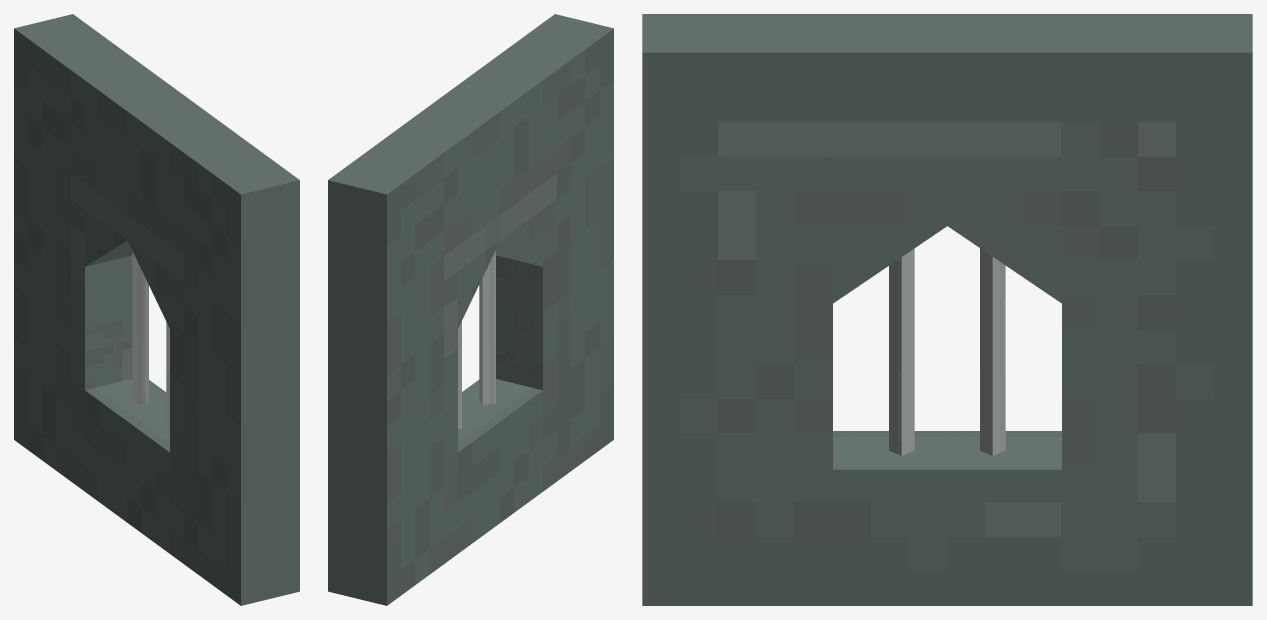
File: Base_Wall2.fbx
The picture shows the model from 3 angles, left to right: view 1: azimuth 30°, elevation 25°; view 2: azimuth 150°, elevation 25°; view 3: azimuth 270°, elevation 25°; orthographic projection. The views are drawn at different scales.
Parts seen in each view (by area): view 1: Wall, Bar2, Bar1; view 2: Wall, Bar1, Bar2; view 3: Wall, Bar1, Bar2.
Boxes of the visible parts, x1,y1,x2,y2 form: Wall: (14,14,299,605); Bar2: (132,251,148,405); Bar1: (166,322,169,428); Wall: (328,14,613,605); Bar1: (479,250,495,404); Bar2: (458,321,461,428); Wall: (642,14,1252,605); Bar1: (889,248,914,455); Bar2: (980,248,1005,455).
Bounding box in the file's own units: 60 × 400 × 400.
